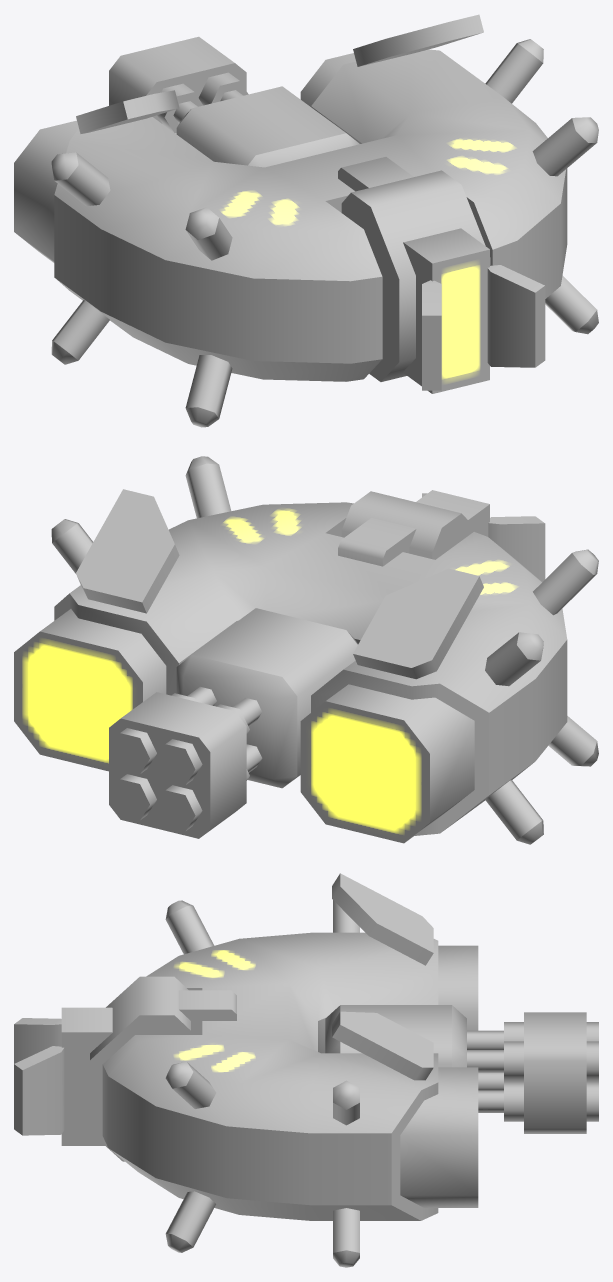
Rendered from Enemy_Flak.gltf.
3 renders of one model, top to bottom at view 1: azimuth 30°, elevation 25°; view 2: azimuth 150°, elevation 25°; view 3: azimuth 270°, elevation 25°, orthographic. The views are drawn at different scales.
Visible parts, largest first — view 1: imported_Meshes; view 2: imported_Meshes; view 3: imported_Meshes.
Part boxes in pixels (left/top/right/bottom): imported_Meshes: left=14, top=14, right=598, bottom=427; imported_Meshes: left=14, top=456, right=598, bottom=844; imported_Meshes: left=14, top=873, right=598, bottom=1267.
Size of the model in its own units: 0.2752 by 0.1367 by 0.3266.
